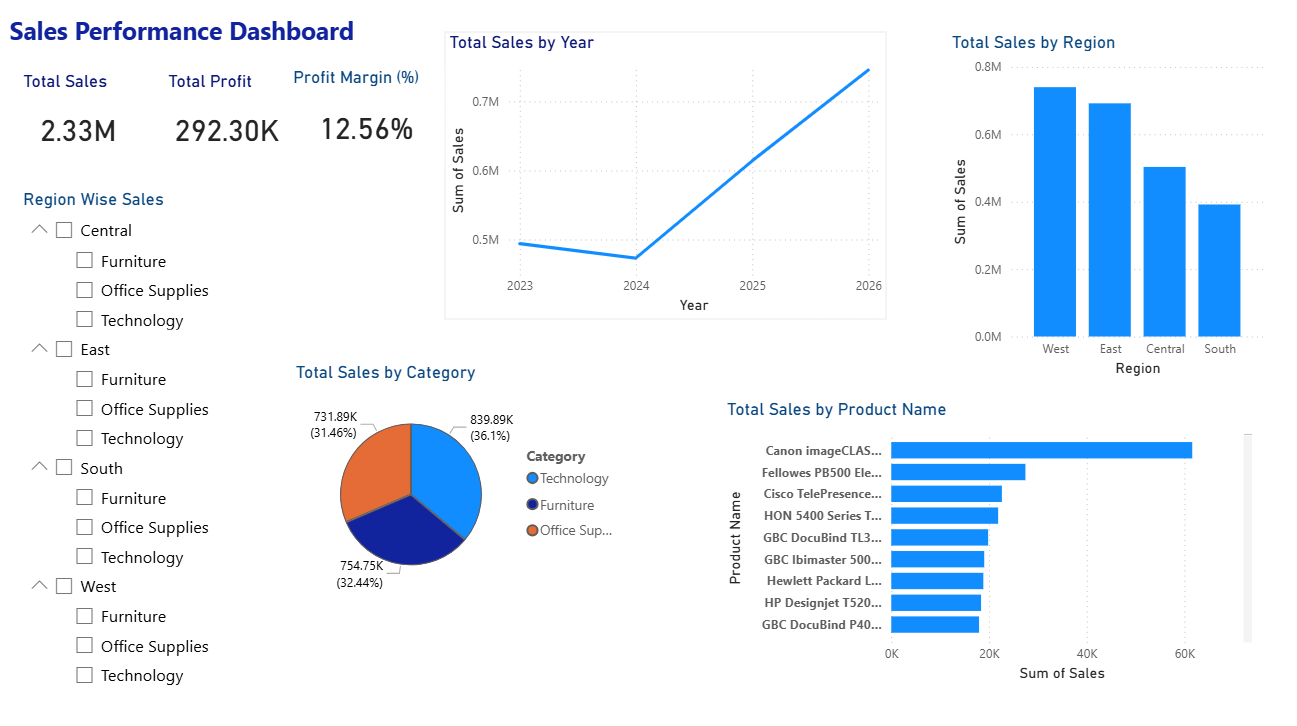

This screenshot's page, from the dashboard's own definition file:
{"tool":"powerbi","page":{"name":"Page 1","canvas":[1280,720],"ordinal":0},"visuals":[{"type":"card","title":"Total Profit","fields":{"Values":["Sum(Orders.Profit)"]},"box":[162.6,74.6,124.7,94.2],"z":0},{"type":"card","title":"Total Sales","fields":{"Values":["Sum(Orders.Sales)"]},"box":[20.8,74.6,117.4,94.2],"z":1000},{"type":"columnChart","title":"Total Sales by Region","fields":{"Y":["Sum(Orders.Sales)"],"Category":["Orders.Region"]},"box":[929.4,36.7,315.5,342.4],"z":2000},{"type":"lineChart","title":"Total Sales by Year","fields":{"Category":["Orders.Order Date.Variation.Date Hierarchy.Year","Orders.Order Date.Variation.Date Hierarchy.Quarter","Orders.Order Date.Variation.Date Hierarchy.Month","Orders.Order Date.Variation.Date Hierarchy.Day"],"Y":["Sum(Orders.Sales)"]},"box":[437.8,36.7,432.9,281.3],"z":3000},{"type":"slicer","title":"Region Wise Sales","fields":{"Values":["Orders.Region","Orders.Category"]},"box":[20.8,190.8,233.6,497.7],"z":4000},{"type":"pieChart","title":"Total Sales by Category","fields":{"Category":["Orders.Category"],"Y":["Sum(Orders.Sales)"]},"box":[287.4,359.5,332.6,239.7],"z":5000},{"type":"clusteredBarChart","title":"Total Sales by Product Name","fields":{"Category":["Orders.Product Name"],"Y":["Sum(Orders.Sales)"]},"box":[709.2,396.2,523.4,281.3],"z":6000},{"type":"textbox","box":[0,14.7,368.1,47.7],"z":6001},{"type":"card","title":"Profit Margin (%)","fields":{"Values":["Orders.Profit Margin"]},"box":[284.9,70.9,152.9,97.8],"z":6002}]}

Visuals, with their boxes in screenshot pixels (x1, y1, x2, y2), scaled from the page's 1280x720 canvas onto the 1297x726 screenshot:
"Total Profit" card: box=[165, 75, 291, 170]
"Total Sales" card: box=[21, 75, 140, 170]
"Total Sales by Region" columnChart: box=[942, 37, 1261, 382]
"Total Sales by Year" lineChart: box=[444, 37, 882, 321]
"Region Wise Sales" slicer: box=[21, 192, 258, 694]
"Total Sales by Category" pieChart: box=[291, 362, 628, 604]
"Total Sales by Product Name" clusteredBarChart: box=[719, 400, 1249, 683]
textbox: box=[0, 15, 373, 63]
"Profit Margin (%)" card: box=[289, 71, 444, 170]
